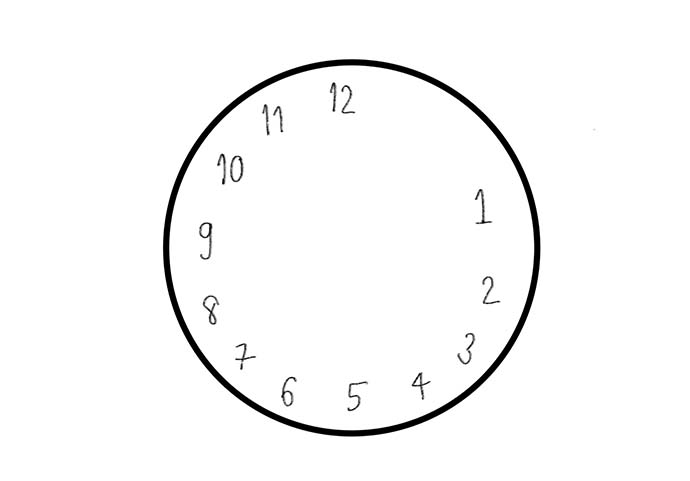eight: (196, 285, 227, 332)
eleven: (260, 102, 293, 139)
five: (336, 374, 374, 418)
four: (405, 363, 439, 401)
nine: (189, 215, 220, 263)
one: (460, 183, 499, 229)
seven: (227, 338, 259, 378)
six: (277, 363, 300, 410)
ten: (211, 150, 251, 189)
three: (452, 322, 477, 370)
twelve: (319, 77, 360, 122)
two: (472, 270, 506, 310)
